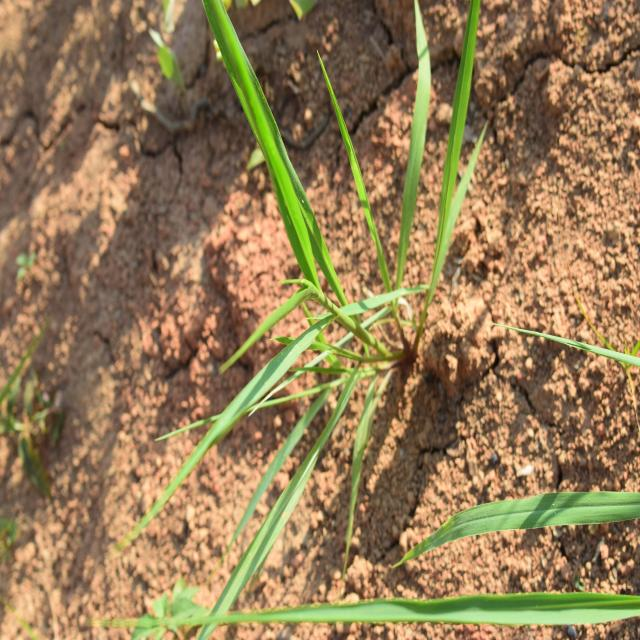green_foxtail: (182, 43, 487, 475)
